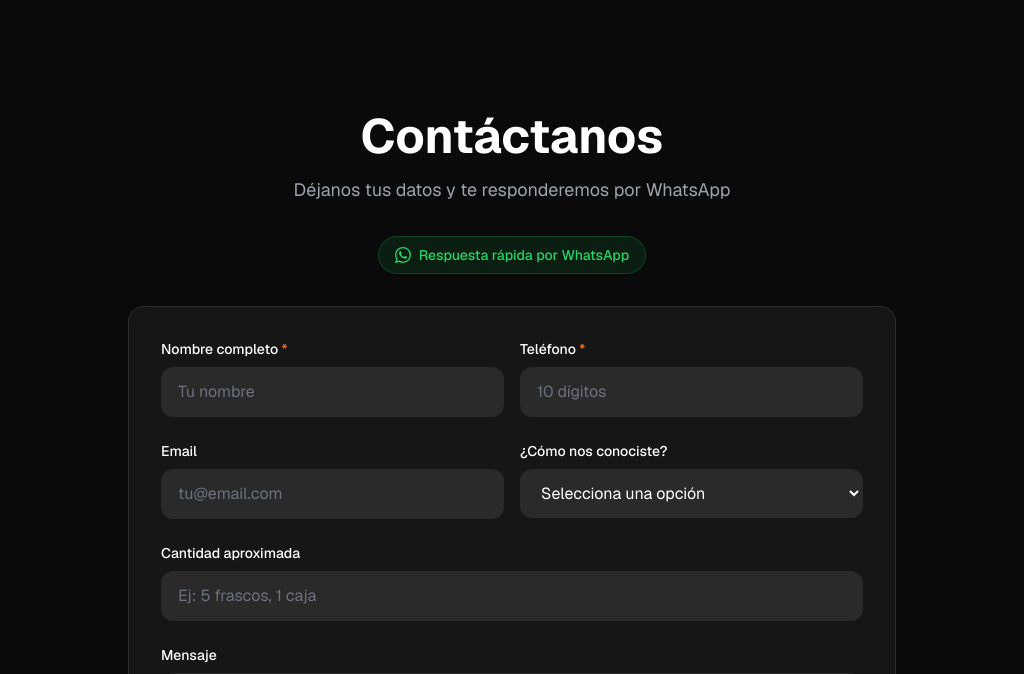
Test: ContactForm › Form Validation › shows error for invalid phone format
Type "Juan" into the field labelled "Nombre completo *" at coordinates (332, 392), box [161, 367, 504, 417]
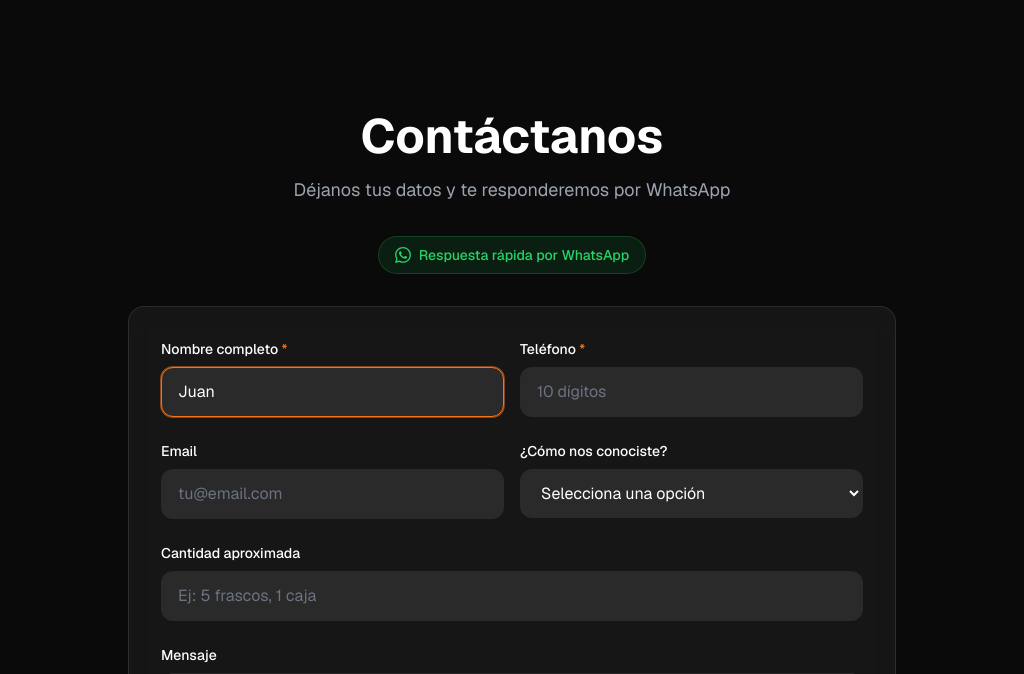
Type "12345" into the field labelled "Teléfono *" at coordinates (692, 392), box [520, 367, 863, 417]
(page scrolled)
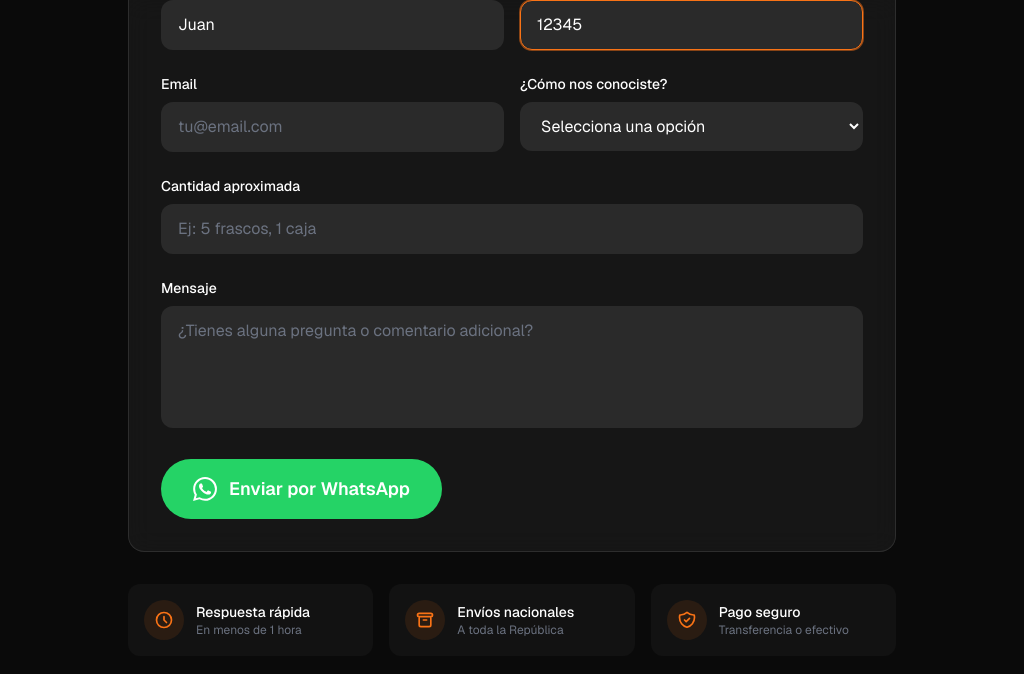
Click the button "Enviar por WhatsApp" at coordinates (302, 489), box [161, 459, 442, 519]
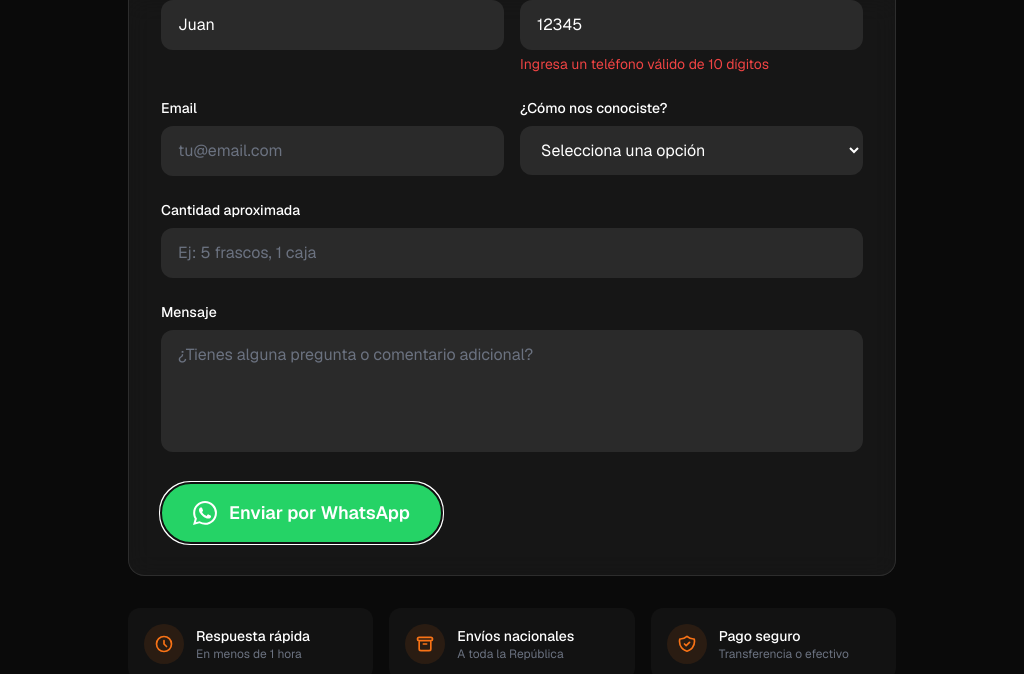
Check: the text "Ingresa un teléfono válido de 10 dígitos" is shown, box [520, 55, 769, 73]
